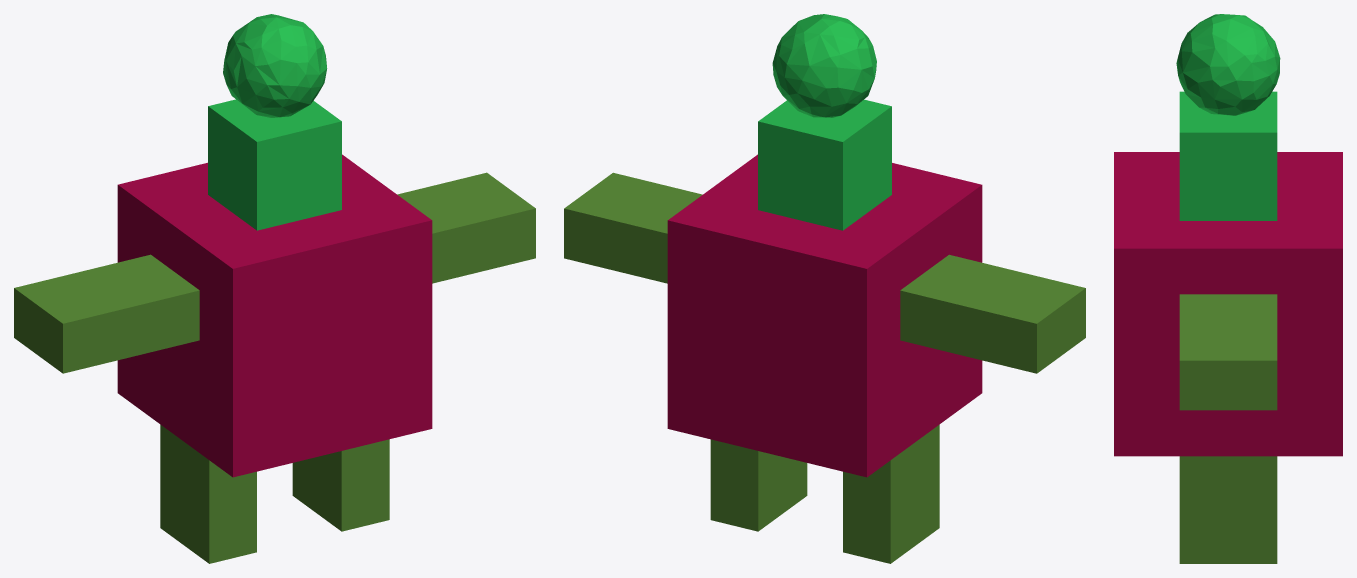
File: myobj.gltf
3 renders of one model, left to right at view 1: azimuth 30°, elevation 25°; view 2: azimuth 150°, elevation 25°; view 3: azimuth 270°, elevation 25°, orthographic.
Bounding box in the file's own units: 25.46 × 26 × 10.73.
